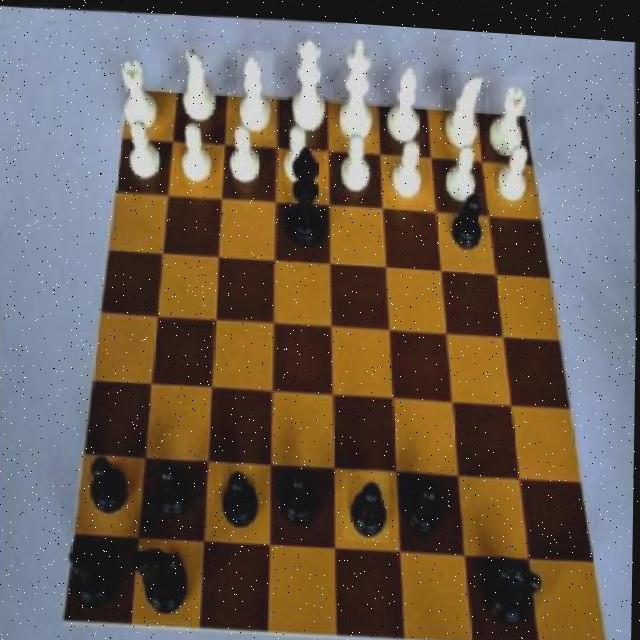black-bishop: (280, 141, 328, 243)
black-king: (481, 538, 545, 628), (130, 532, 193, 618)
black-knight: (85, 451, 138, 525), (220, 455, 264, 538), (402, 464, 449, 539), (344, 466, 392, 538), (154, 453, 198, 525), (280, 465, 326, 533), (450, 182, 487, 251)
black-queen: (65, 531, 122, 617)
black-rook: (236, 45, 276, 137), (383, 57, 425, 142)
white-bishop: (336, 31, 377, 141)
white-king: (179, 39, 224, 126), (443, 63, 487, 148)
white-knight: (121, 112, 165, 186), (179, 108, 219, 186), (227, 112, 266, 186), (335, 125, 379, 190), (492, 135, 533, 202), (280, 112, 317, 184), (439, 139, 481, 201), (388, 134, 426, 196)
white-pawn: (286, 28, 331, 137)
white-queen: (483, 65, 533, 158), (117, 52, 165, 129)
